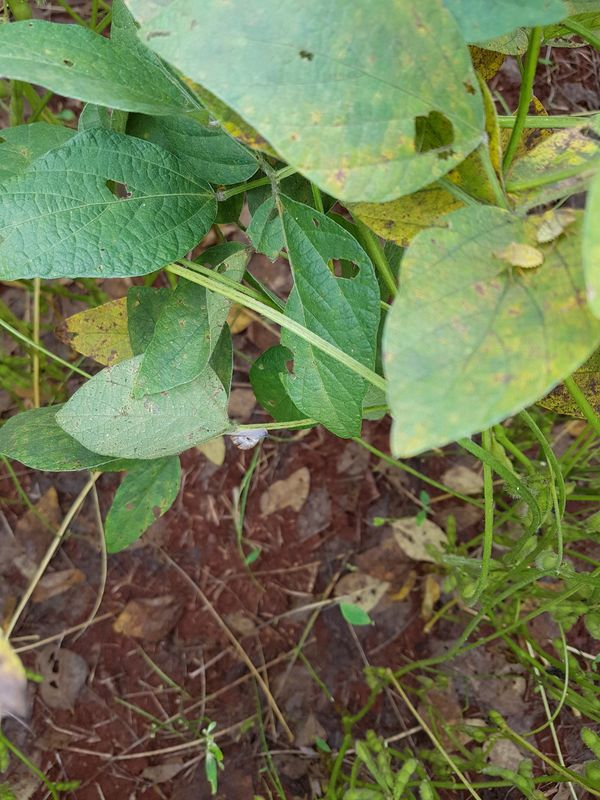Euschistus_heros_ninfa: (529, 201, 581, 245), (491, 241, 547, 281)
Gastropoda: (220, 423, 268, 457)
